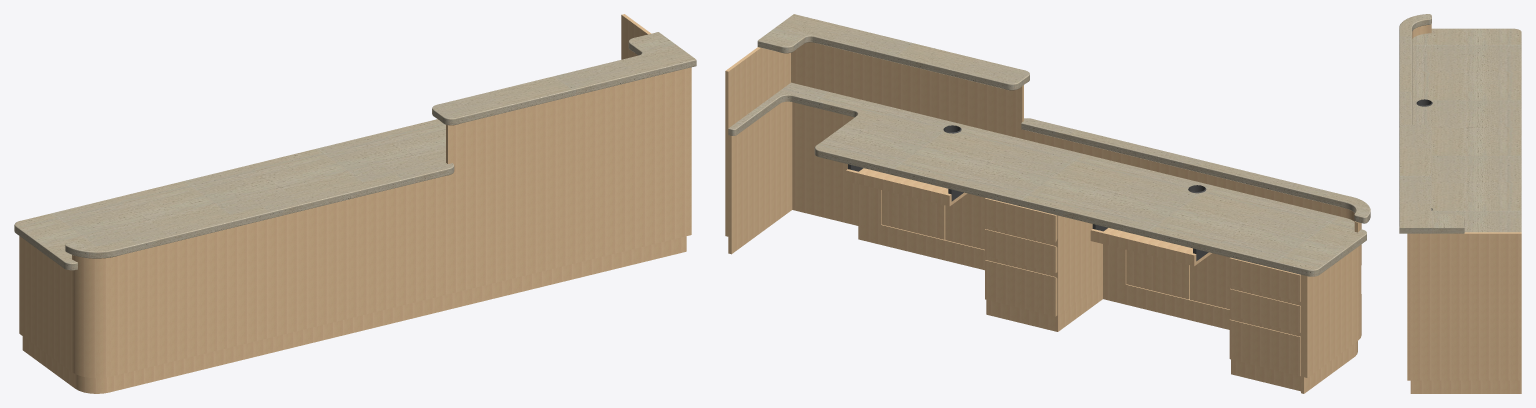
The model's file is NCTR-08A-B.FBX.
The picture shows the model from 3 angles, left to right: view 1: azimuth 30°, elevation 25°; view 2: azimuth 150°, elevation 25°; view 3: azimuth 270°, elevation 25°; orthographic projection. The views are drawn at different scales.
Parts seen in each view (by area): view 1: Joined Solid Geometry [2074835], Joined Solid Geometry [2075526], Joined Solid Geometry [2074836], Joined Solid Geometry [2074412], Joined Solid Geometry [2075040]; view 2: Joined Solid Geometry [2075526], Joined Solid Geometry [2074835], Joined Solid Geometry [2074836], CSW_Sunray_pedestal pedestal [2071412], CSW_Sunray_pedestal pedestal [2071393], CSW_Sunray_Cabinet_Door_Sgl_Top-Finger_Groove Door_Sgl [2072 (×4), Joined Solid Geometry [2072347], Joined Solid Geometry [2074412], Joined Solid Geometry [2075040], Casework-Sunray_Keyboard Casework-Sunray_Keyboard [2071532], Casework-Sunray_Keyboard Casework-Sunray_Keyboard [2071535]; view 3: Joined Solid Geometry [2075526], Joined Solid Geometry [2074835], Joined Solid Geometry [2074412], Joined Solid Geometry [2075040], Joined Solid Geometry [2074836].
Boxes of the visible parts, box(x1,y1,x2,y2) form: Joined Solid Geometry [2074835]: box(19, 14, 691, 378); Joined Solid Geometry [2075526]: box(14, 119, 445, 270); Joined Solid Geometry [2074836]: box(22, 236, 686, 393); Joined Solid Geometry [2074412]: box(432, 32, 696, 125); Joined Solid Geometry [2075040]: box(65, 162, 454, 258); Joined Solid Geometry [2075526]: box(728, 82, 1366, 276); Joined Solid Geometry [2074835]: box(725, 42, 1361, 377); Joined Solid Geometry [2074836]: box(728, 101, 1357, 393); CSW_Sunray_pedestal pedestal [2071412]: box(985, 198, 1102, 331); CSW_Sunray_pedestal pedestal [2071393]: box(1229, 257, 1300, 391); CSW_Sunray_Cabinet_Door_Sgl_Top-Finger_Groove Door_Sgl [2072 (×4): box(881, 190, 1230, 309); Joined Solid Geometry [2072347]: box(858, 184, 1230, 329); Joined Solid Geometry [2074412]: box(757, 14, 1029, 90); Joined Solid Geometry [2075040]: box(1021, 118, 1370, 223); Casework-Sunray_Keyboard Casework-Sunray_Keyboard [2071532]: box(1090, 224, 1211, 266); Casework-Sunray_Keyboard Casework-Sunray_Keyboard [2071535]: box(846, 164, 967, 206); Joined Solid Geometry [2075526]: box(1412, 28, 1521, 232); Joined Solid Geometry [2074835]: box(1407, 24, 1521, 380); Joined Solid Geometry [2074412]: box(1399, 124, 1464, 233); Joined Solid Geometry [2075040]: box(1399, 14, 1431, 126); Joined Solid Geometry [2074836]: box(1410, 380, 1521, 393).
Size of the model in its own units: 146 by 44.49 by 29.53.
4 materials, 3 textured.
